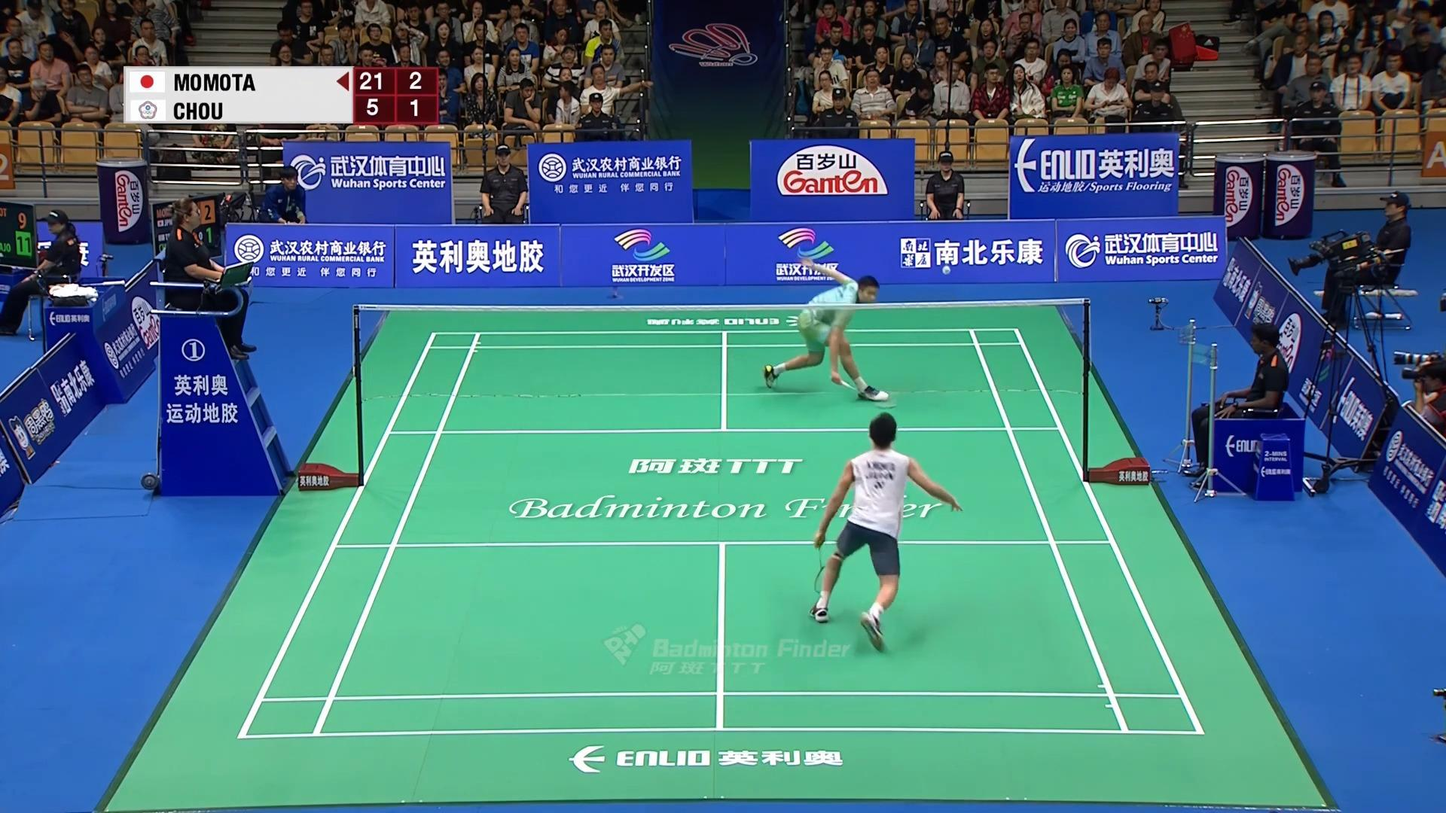player: (810, 413, 962, 652), (764, 256, 890, 403)
